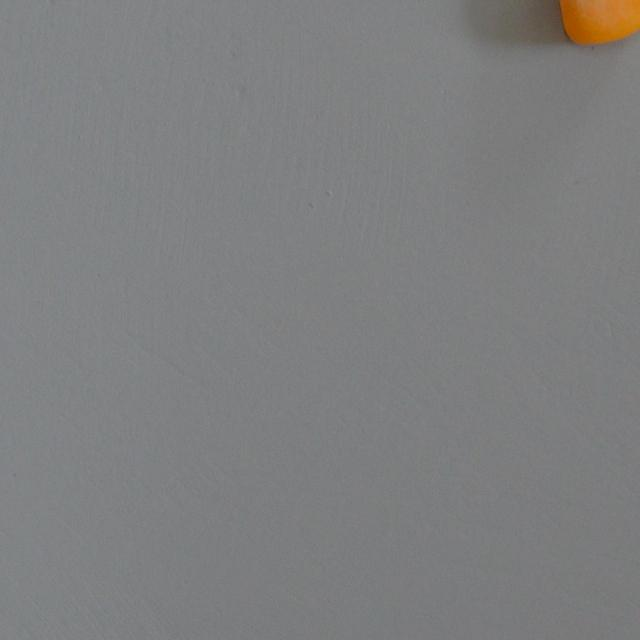entero: (542, 0, 640, 50)
